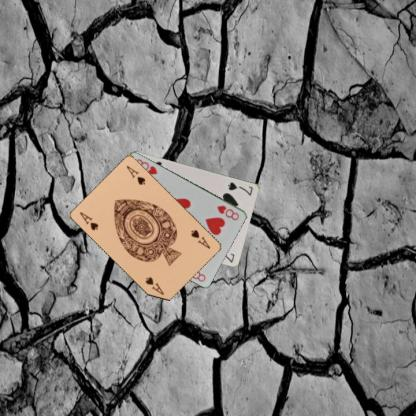7s: (225, 179, 254, 197)
8h: (214, 203, 240, 221)
As: (188, 227, 212, 250), (77, 209, 100, 232)
